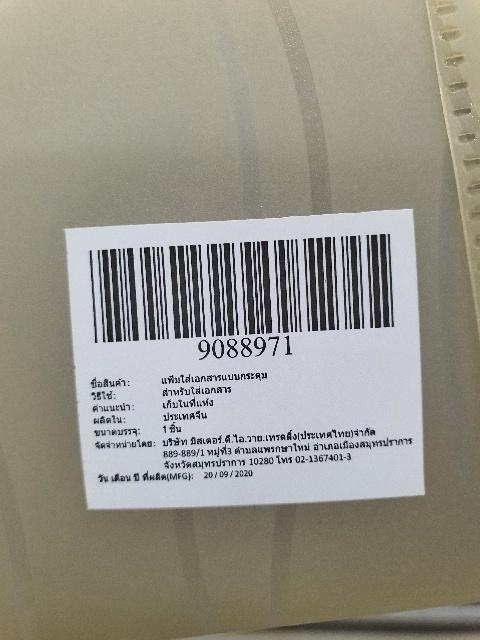Barcode: (79, 223, 411, 362)
